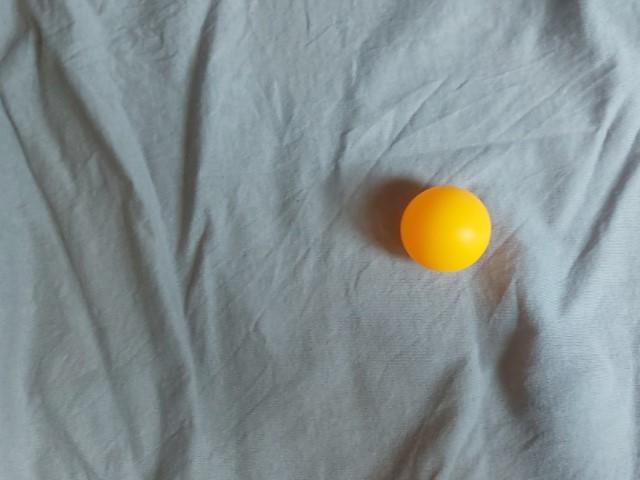oball: (139, 198, 248, 305)
